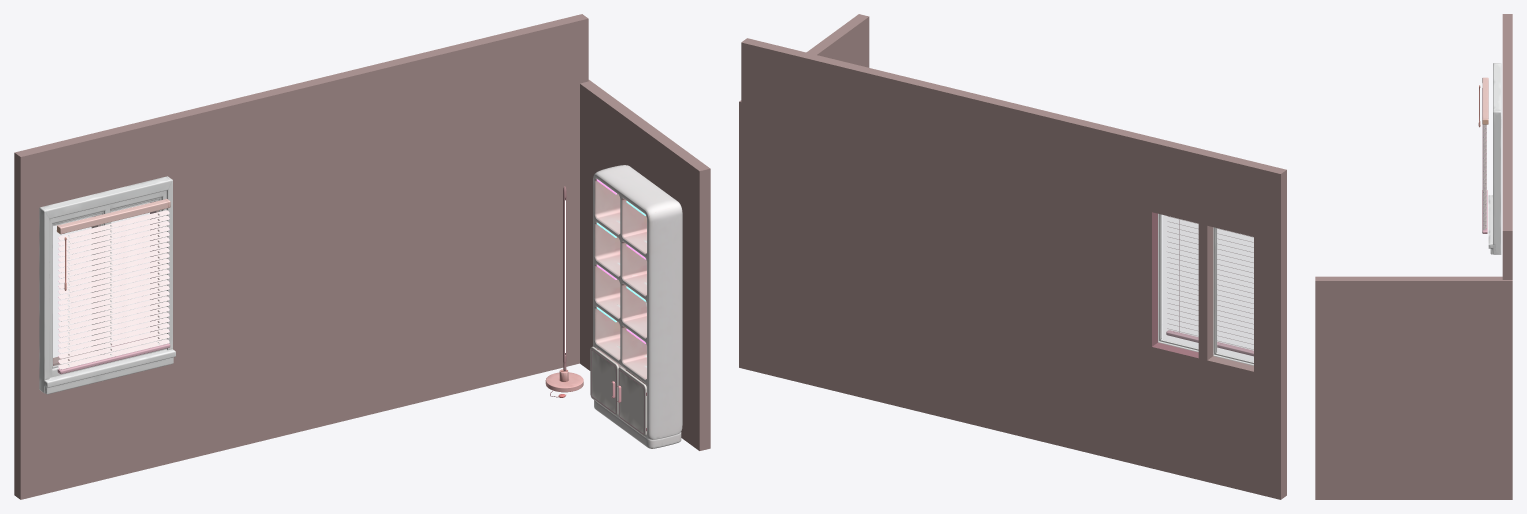
3 renders of one model, left to right at view 1: azimuth 30°, elevation 25°; view 2: azimuth 150°, elevation 25°; view 3: azimuth 270°, elevation 25°, orthographic. The views are drawn at different scales.
Parts seen in each view (by area): view 1: architecture.backWall.v5, bookshelf.carcass, architecture.rightWall.v5, window.frame, bookshelf.door.left.mesh, bookshelf.door.right.mesh, window.headrail, window.glass.left; view 2: architecture.backWall.v5, window.glass.right, window.glass.left, architecture.rightWall.v5, window.frame; view 3: architecture.rightWall.v5, architecture.backWall.v5, window.frame, window.headrail.
Boxes of the visible parts, x1,y1,x2,y2 form: architecture.backWall.v5: [14, 14, 588, 499]; bookshelf.carcass: [593, 165, 682, 448]; architecture.rightWall.v5: [580, 80, 710, 450]; window.frame: [39, 176, 175, 394]; bookshelf.door.left.mesh: [590, 346, 618, 415]; bookshelf.door.right.mesh: [618, 367, 646, 436]; window.headrail: [56, 198, 170, 234]; window.glass.left: [53, 225, 100, 366]; architecture.backWall.v5: [741, 38, 1286, 499]; window.glass.right: [1162, 215, 1198, 347]; window.glass.left: [1218, 229, 1253, 361]; architecture.rightWall.v5: [739, 14, 869, 369]; window.frame: [1158, 213, 1253, 365]; architecture.rightWall.v5: [1315, 276, 1512, 499]; architecture.backWall.v5: [1502, 14, 1512, 279]; window.frame: [1488, 63, 1501, 254]; window.headrail: [1482, 77, 1488, 124].
Size of the model in its own units: 5.22 by 3 by 2.
28 materials, 9 textured.
